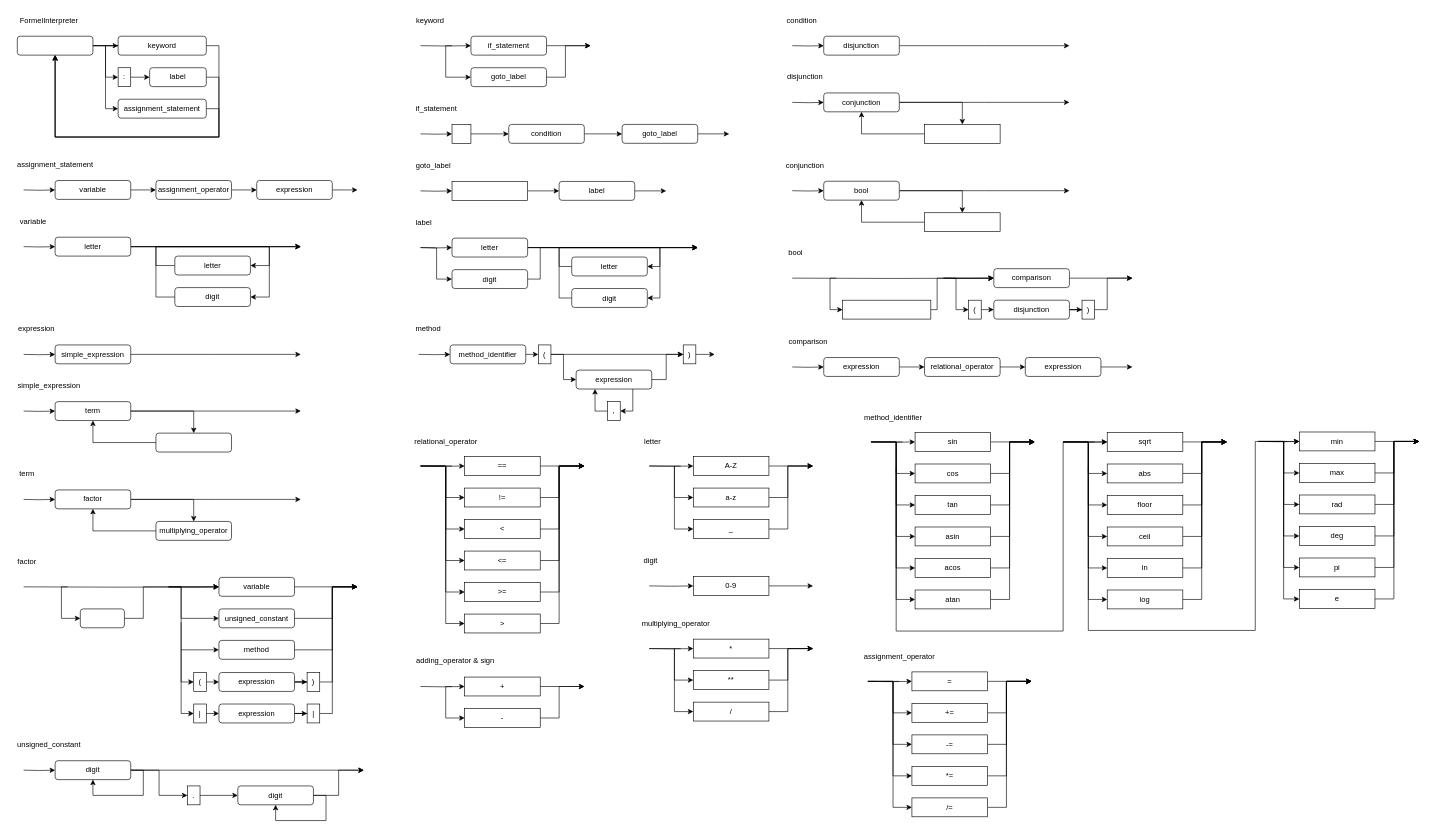
Image size: 1435x837. Some labels were removed from this diagram. Here are the shapes that lost their labels. From the top down, the centre of each, then its label:
At (55,45): "Read line".
At (461,133): "if".
At (962,133): "|| (logical OR)".
At (489,190): "goto".
At (962,222): "&& (logical AND)".
At (886,309): "! (logical NOT)".
At (193,442): "adding_operator".
At (102,618): "sign".
